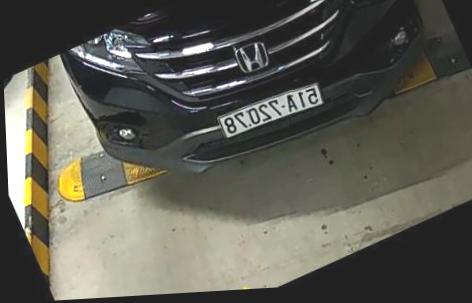License_Plate: (213, 81, 331, 148)
